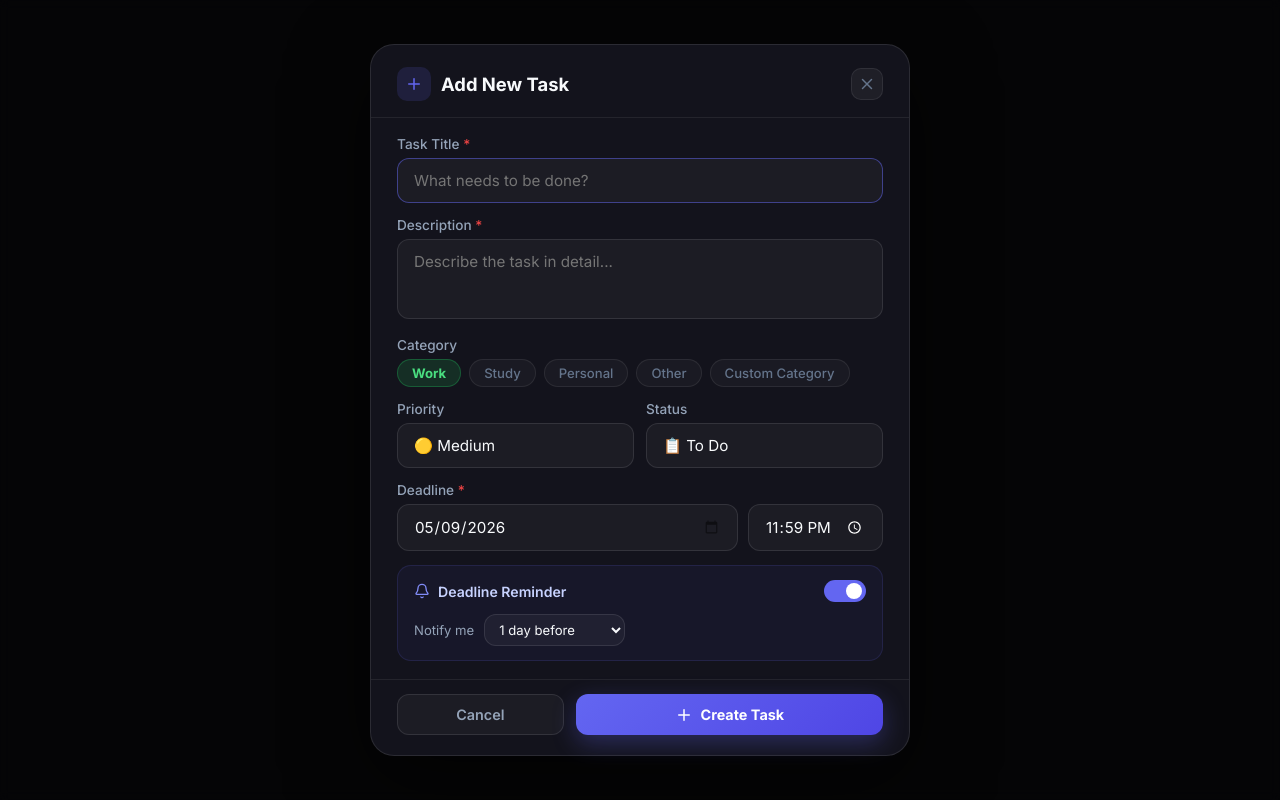
Test: AddTaskModal › shows "Description is required" when description is empty on submit
The width and height of the screenshot is (1280, 800).
In the field with placeholder "What needs to be done?": (640, 180) [397, 158, 883, 202], type "A title"
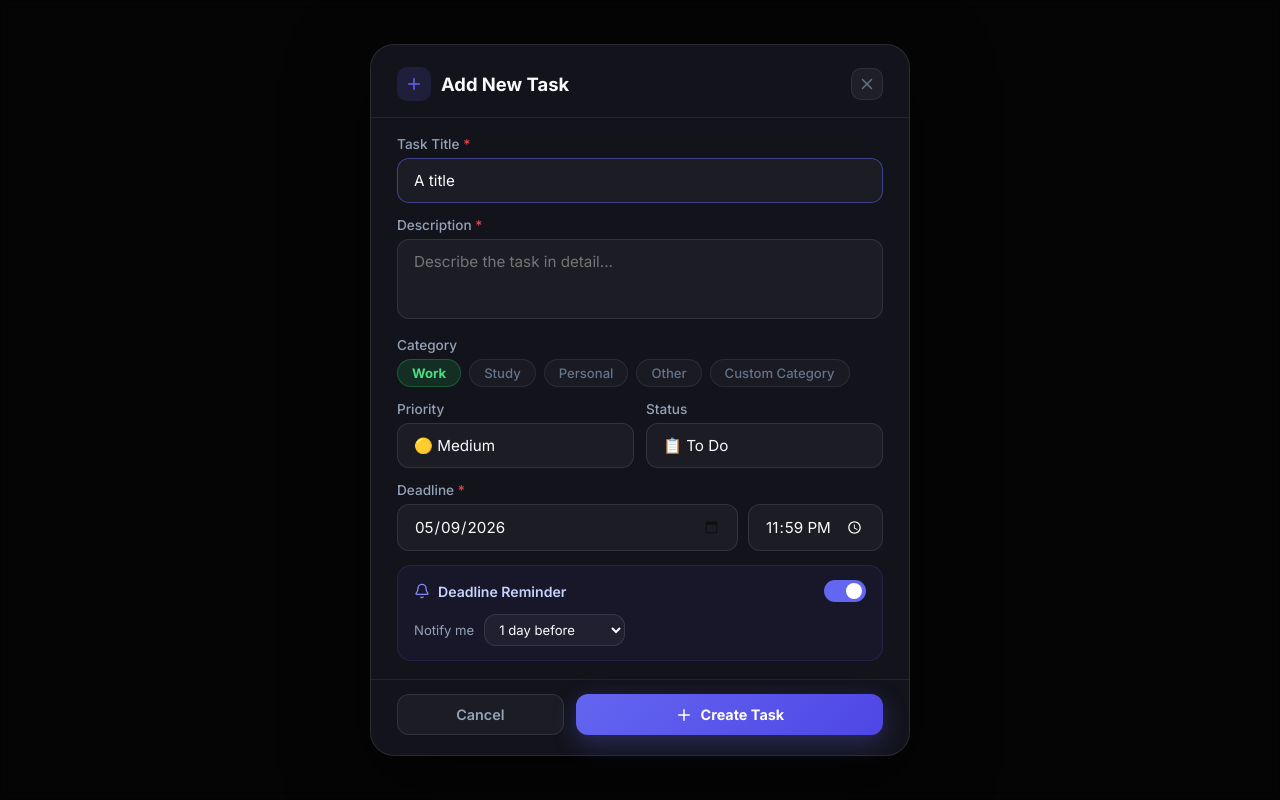
Click the button "Create Task": click(729, 715) [576, 694, 883, 736]
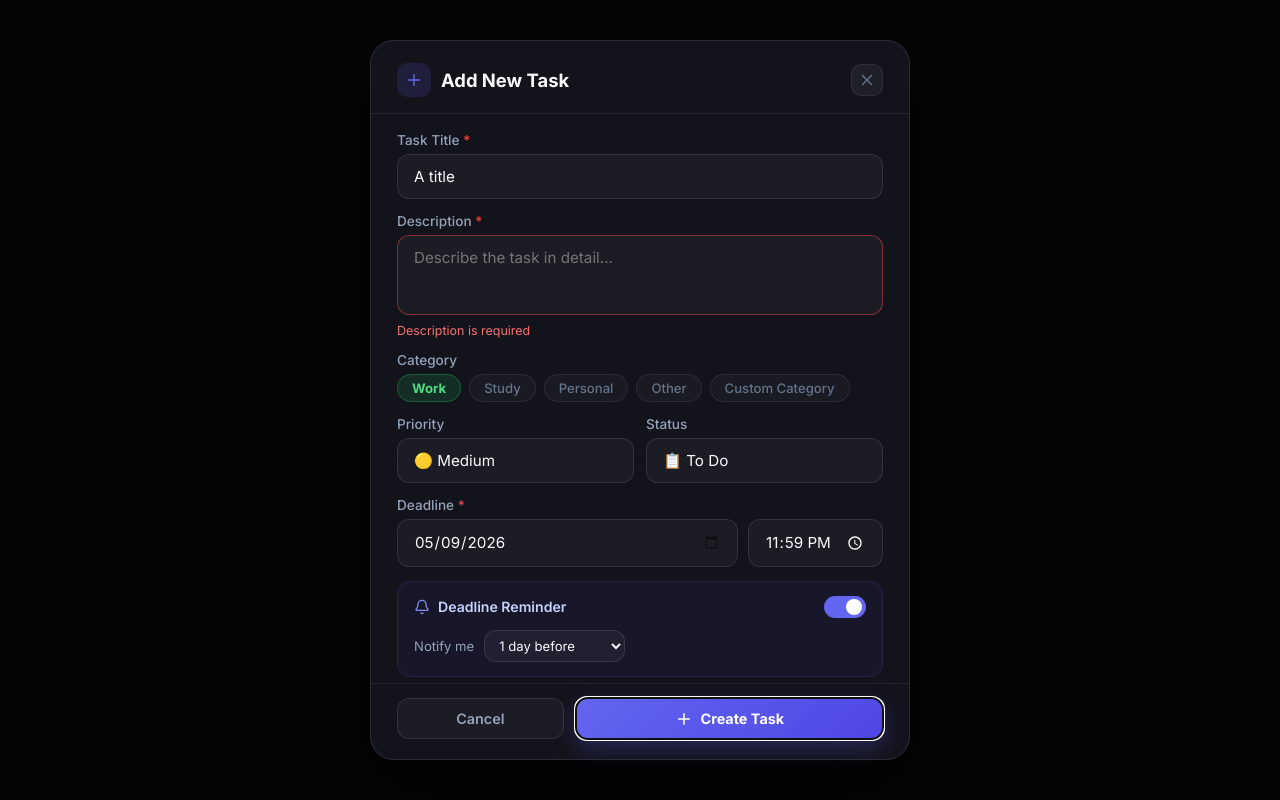
Now the text "Description is required" is shown, box [397, 323, 530, 338]
